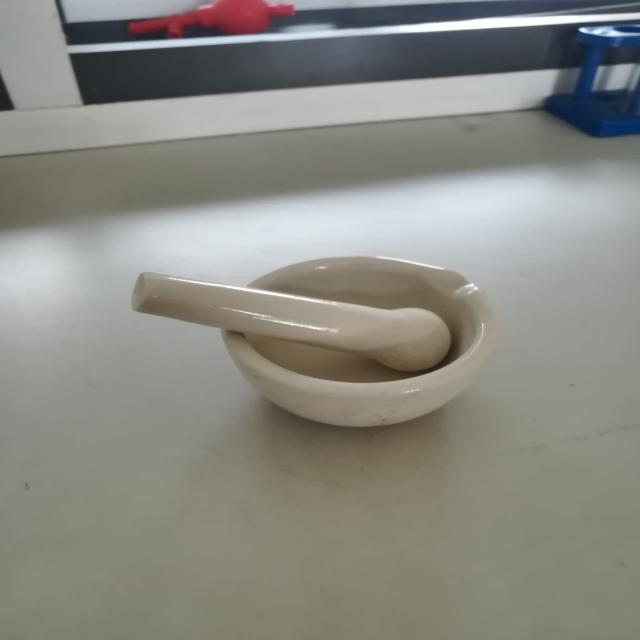Porcelain_Mortar Pestle: (86, 176, 547, 461)
